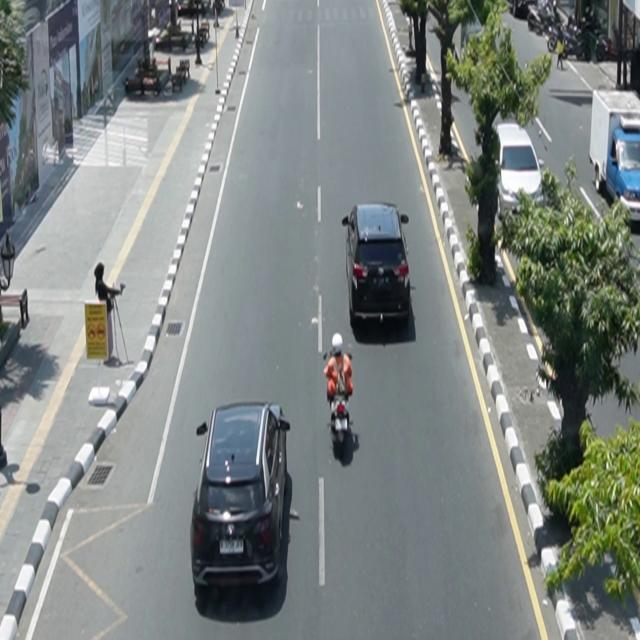car: (191, 401, 291, 592), (342, 202, 412, 329), (492, 120, 546, 223)
truck: (589, 89, 640, 229)
